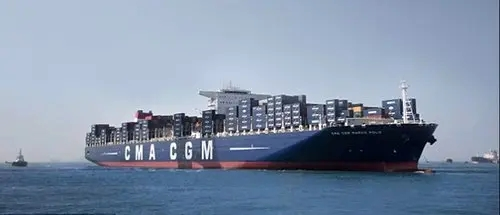Cargoship: (85, 74, 433, 171)
otherboat: (6, 148, 30, 172)
